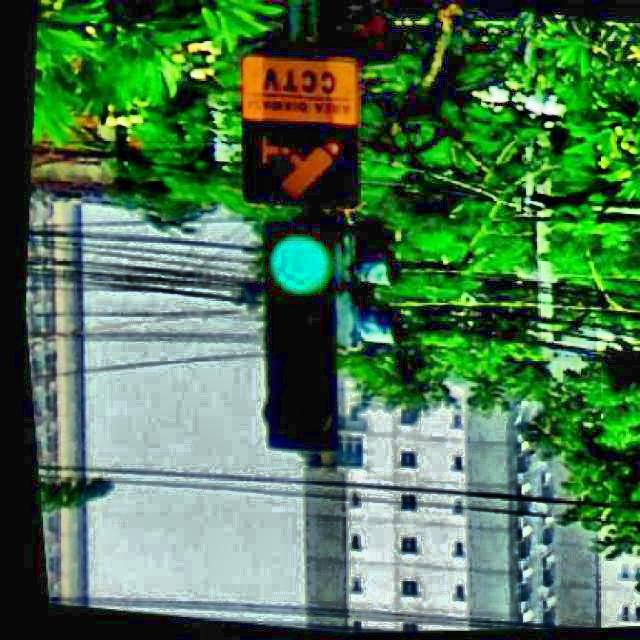green: (262, 225, 344, 449)
